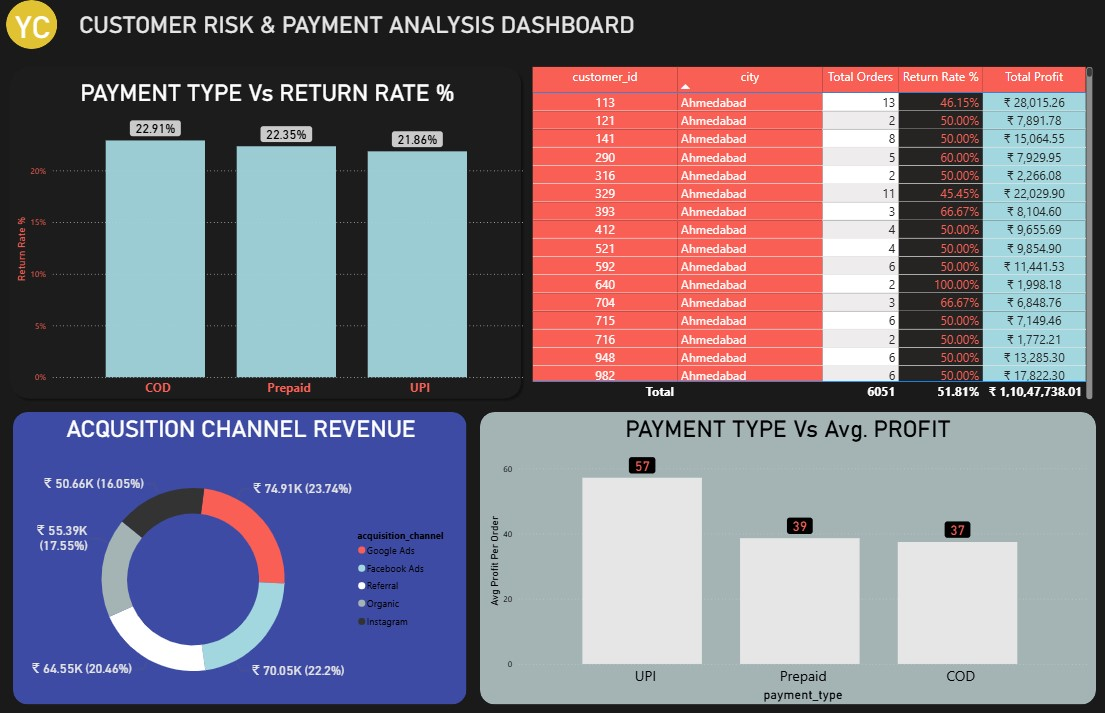

What the dashboard file says about the page in this screenshot:
{"tool":"powerbi","page":{"name":"Customer Risk & Payment Analysis ","canvas":[1580,1020],"ordinal":2},"visuals":[{"type":"shape","box":[18.3,589.2,648,418],"z":0},{"type":"shape","box":[686.3,589.2,880,418],"z":1000},{"type":"shape","box":[8.3,88.7,742.5,487.1],"z":2000,"group":"g1"},{"type":"clusteredColumnChart","fields":{"Category":["final_analytics_dataset.payment_type"],"Y":["final_analytics_dataset.Return Rate %"]},"box":[16.3,158.6,737.7,417.3],"z":3000,"group":"g1"},{"type":"clusteredColumnChart","fields":{"Category":["final_analytics_dataset.payment_type"],"Y":["final_analytics_dataset.Avg Profit Per Order"]},"box":[693.3,639.7,865,367.5],"z":4000},{"type":"textbox","box":[686.3,589.2,880,50],"z":5000},{"type":"tableEx","fields":{"Values":["final_analytics_dataset.customer_id","final_analytics_dataset.city","final_analytics_dataset.Total Orders","final_analytics_dataset.Return Rate %","final_analytics_dataset.Total Profit"]},"box":[753.3,88.9,813.3,486.7],"z":6000},{"type":"textbox","box":[24.3,589.2,640,50],"z":8000},{"type":"textbox","box":[16.3,108.7,729.7,49.9],"z":9000,"group":"g1"},{"type":"donutChart","fields":{"Category":["final_analytics_dataset.acquisition_channel"],"Y":["final_analytics_dataset.Total Revenue"]},"box":[35.5,638.7,617.1,378.6],"z":9001},{"type":"group","id":"g1","title":"Group 1","box":[8.3,88.7,745.7,487.1],"z":9002},{"type":"shape","box":[8.3,0,73.3,70],"z":9003},{"type":"textbox","box":[5,8.3,81.7,65],"z":9005},{"type":"textbox","box":[91.7,11.7,836.7,53.3],"z":9006}]}

Visuals, with their boxes in screenshot pixels (x1, y1, x2, y2), scaled from the page's 1580x1020 canvas onto the 1105x713 screenshot:
shape: 13 412 466 704
shape: 480 412 1095 704
shape: 6 62 525 402
clusteredColumnChart - final_analytics_dataset.payment_type x final_analytics_dataset.Return Rate %: 11 111 527 403
clusteredColumnChart - final_analytics_dataset.payment_type x final_analytics_dataset.Avg Profit Per Order: 485 447 1090 704
textbox: 480 412 1095 447
tableEx - final_analytics_dataset.customer_id x final_analytics_dataset.city: 527 62 1096 402
textbox: 17 412 465 447
textbox: 11 76 522 111
donutChart - final_analytics_dataset.acquisition_channel x final_analytics_dataset.Total Revenue: 25 446 456 711
"Group 1" group: 6 62 527 402
shape: 6 0 57 49
textbox: 3 6 61 51
textbox: 64 8 649 45
